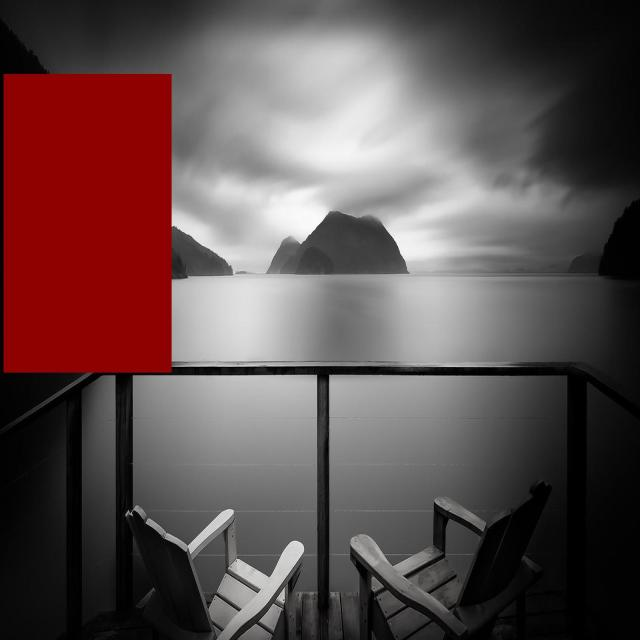RedSquare: (0, 70, 176, 384)
